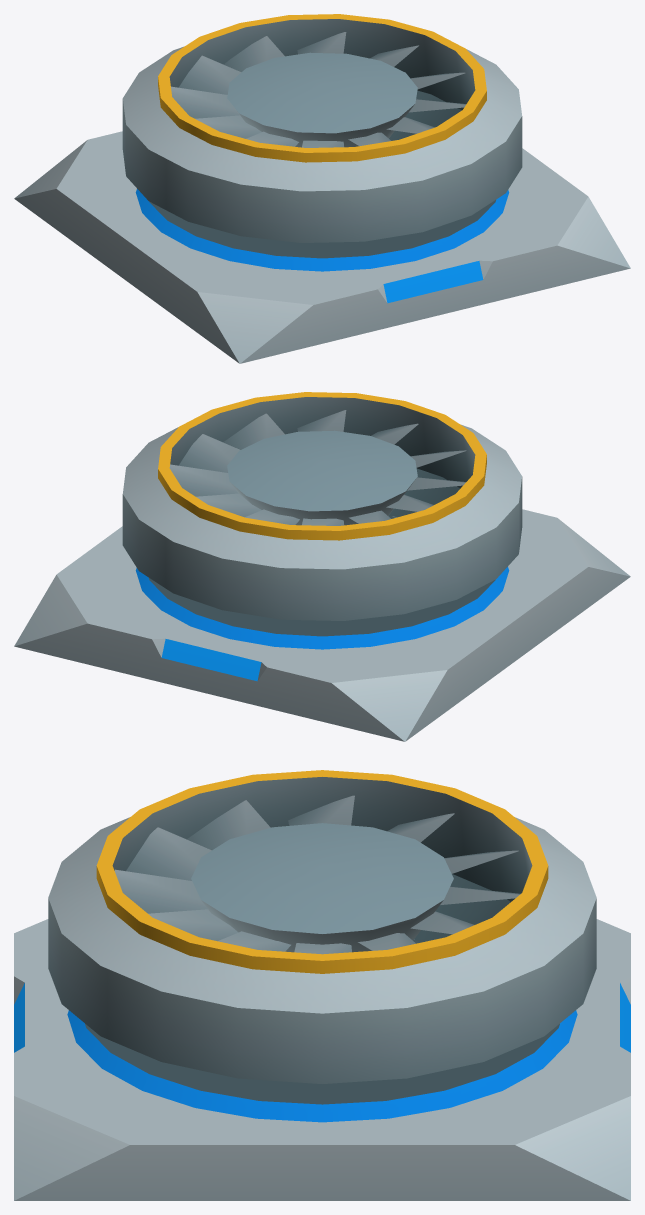
File: Ventilation_003.glb
3 renders of one model, top to bottom at view 1: azimuth 30°, elevation 25°; view 2: azimuth 150°, elevation 25°; view 3: azimuth 270°, elevation 25°, orthographic. The views are drawn at different scales.
Parts seen in each view (by area): view 1: Ventilation_003, Ventilation_017; view 2: Ventilation_003, Ventilation_017; view 3: Ventilation_003, Ventilation_017.
Boxes of the visible parts, x1,y1,x2,y2 form: Ventilation_003: (14, 14, 630, 363); Ventilation_017: (171, 32, 466, 147); Ventilation_003: (14, 392, 630, 741); Ventilation_017: (169, 410, 466, 525); Ventilation_003: (14, 770, 630, 1200); Ventilation_017: (114, 795, 520, 954).
Size of the model in its own units: 1 by 0.3666 by 1.
2 materials, 2 textured.
